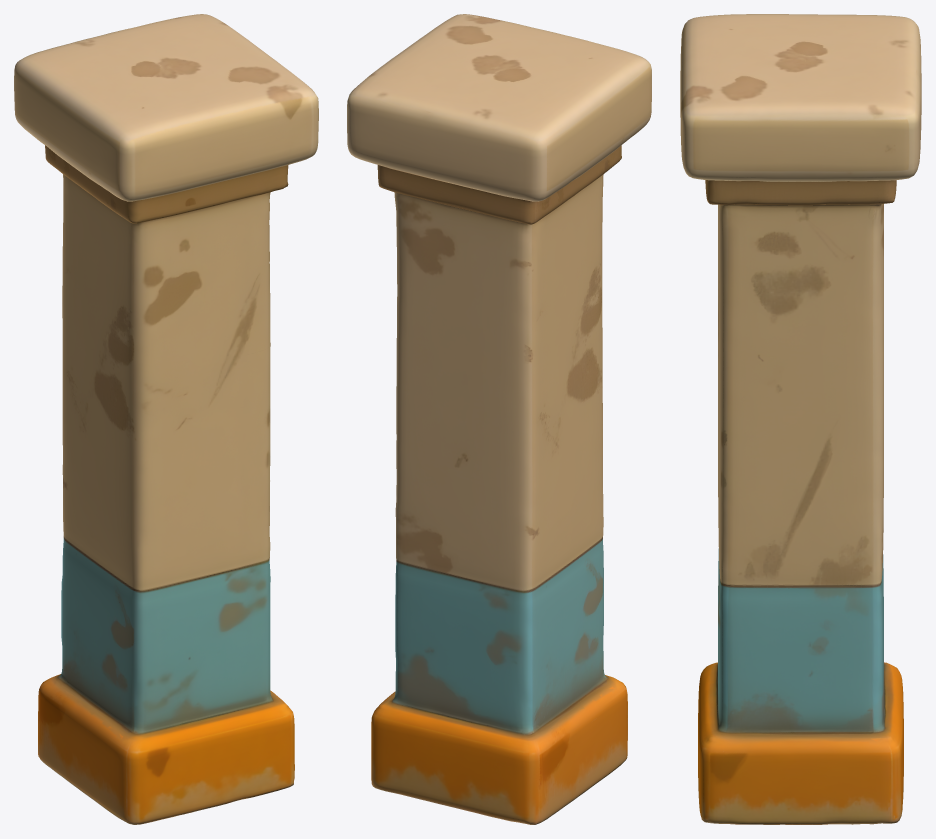
The model's file is Pillar_1120165142_texture.fbx.
The picture shows the model from 3 angles, left to right: view 1: azimuth 30°, elevation 25°; view 2: azimuth 150°, elevation 25°; view 3: azimuth 270°, elevation 25°; orthographic projection. The views are drawn at different scales.
Visible parts, largest first — view 1: input; view 2: input; view 3: input.
Part boxes in pixels (left/top/right/bottom): input: left=14, top=14, right=318, bottom=824; input: left=347, top=14, right=651, bottom=824; input: left=680, top=14, right=921, bottom=824.
Size of the model in its own units: 57.46 by 191 by 57.42.
Materials: 1 (1 with a texture image).
